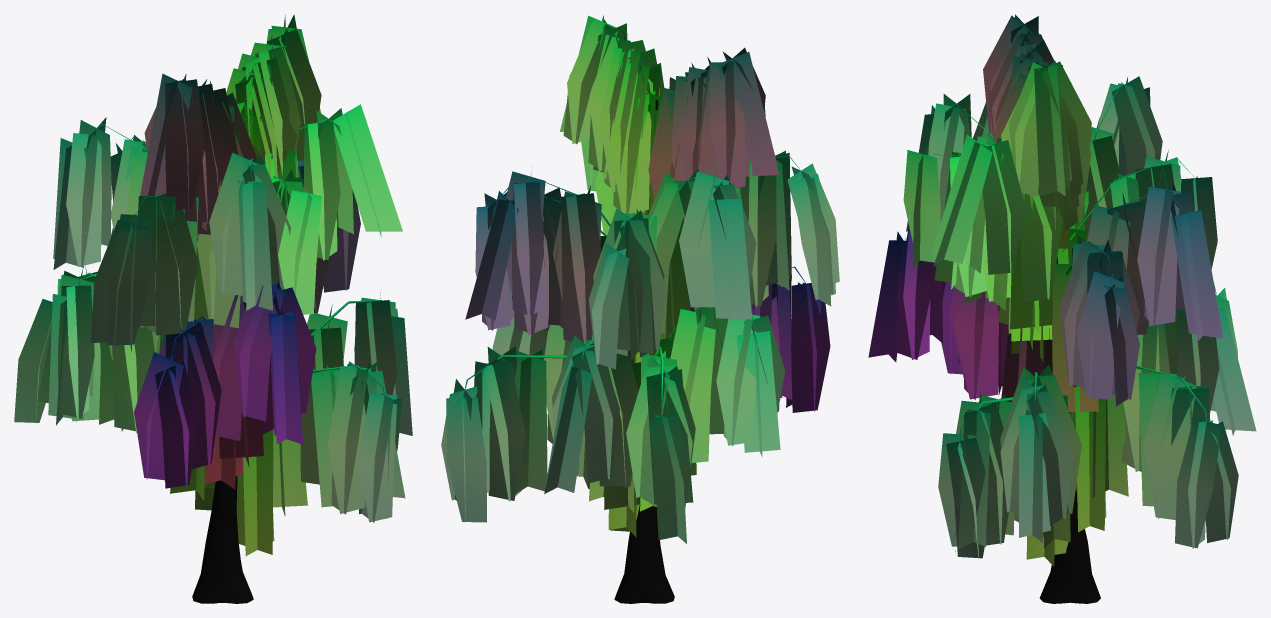
The model's file is Tree_7_3.fbx.
3 renders of one model, left to right at view 1: azimuth 30°, elevation 25°; view 2: azimuth 150°, elevation 25°; view 3: azimuth 270°, elevation 25°, orthographic.
Visible parts, largest first — view 1: _3; view 2: _3; view 3: _3.
Part boxes in pixels (bbox=[...]): _3: bbox=[14, 14, 412, 603]; _3: bbox=[441, 15, 839, 603]; _3: bbox=[868, 14, 1256, 603].
Bounding box in the file's own units: 832 × 1352 × 849.
